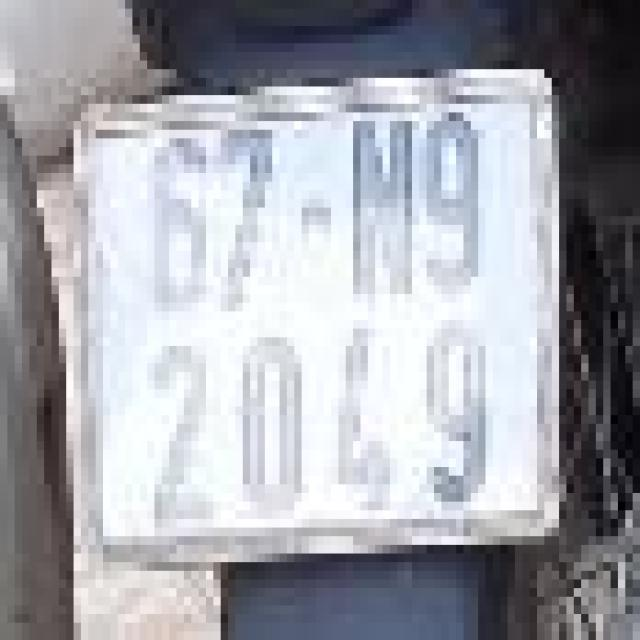0: (235, 320, 309, 536)
2: (140, 329, 220, 536)
4: (320, 320, 401, 510)
6: (136, 126, 217, 324)
7: (206, 112, 280, 320)
9: (408, 312, 497, 528), (412, 99, 493, 307)
N: (334, 104, 416, 320)
